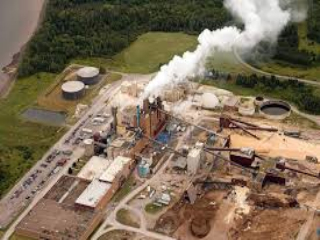smoke: (139, 24, 229, 109)
